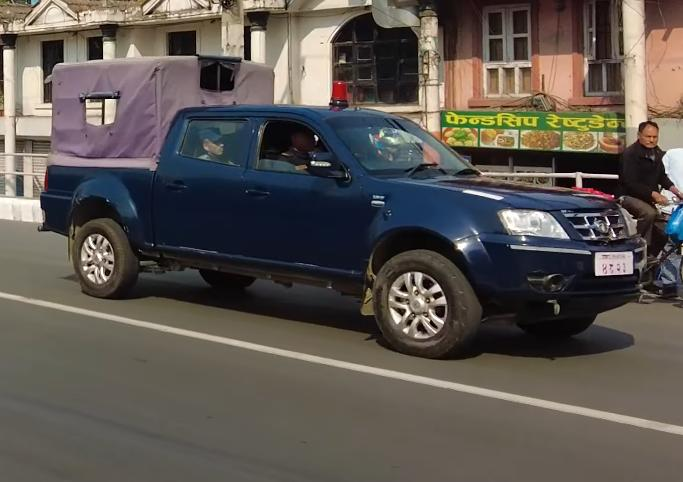police_vehicle: (32, 55, 640, 364)
